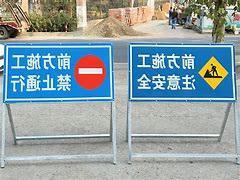sign: (3, 43, 114, 100), (130, 43, 236, 100)
